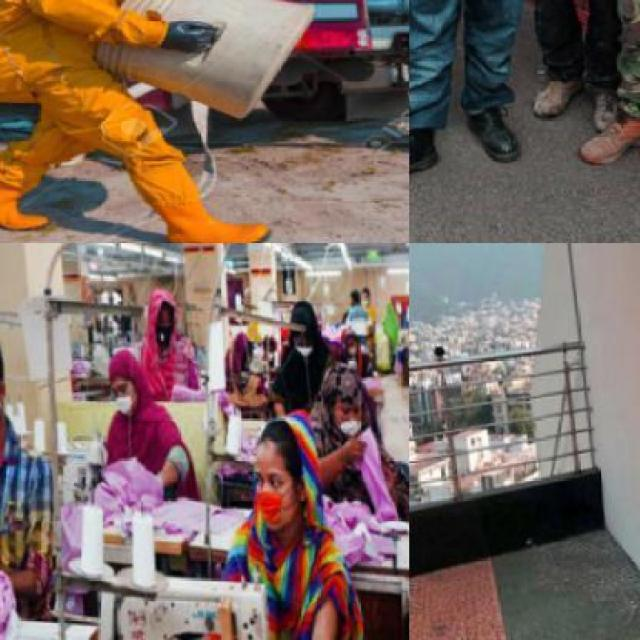Vest: (0, 0, 120, 149)
